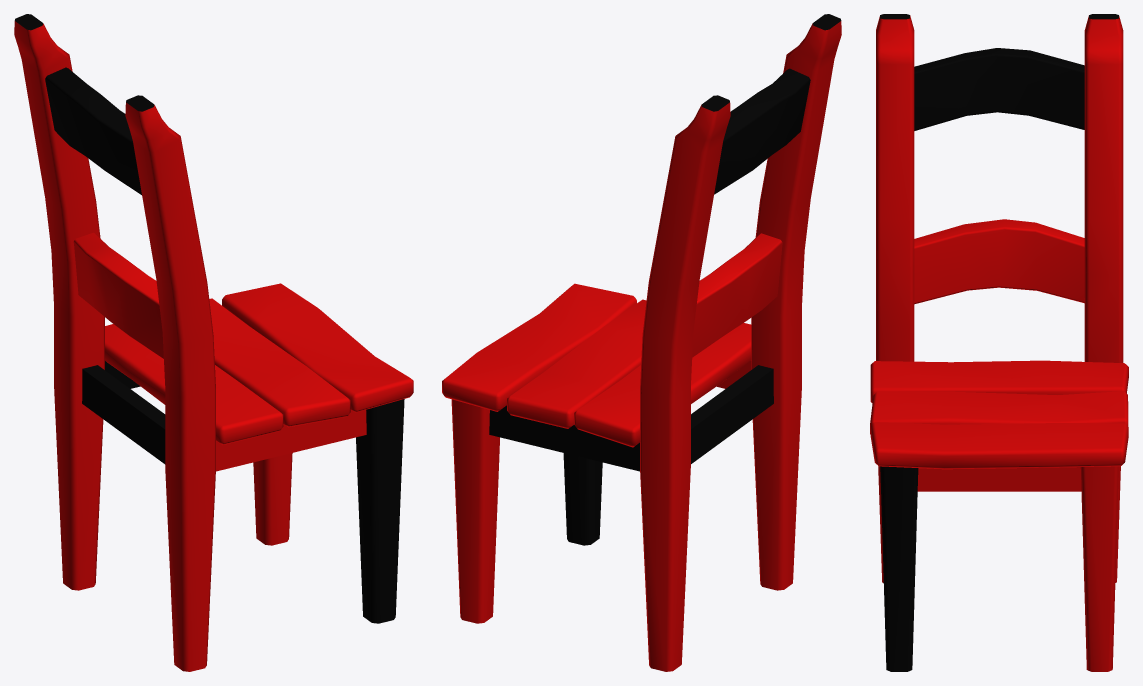
File: Chair_2.fbx
3 renders of one model, left to right at view 1: azimuth 30°, elevation 25°; view 2: azimuth 150°, elevation 25°; view 3: azimuth 270°, elevation 25°, orthographic. The views are drawn at different scales.
Parts seen in each view (by area): view 1: Chair_2; view 2: Chair_2; view 3: Chair_2.
Part boxes in pixels (left/top/right/bottom): Chair_2: left=14, top=14, right=413, bottom=671; Chair_2: left=442, top=14, right=841, bottom=671; Chair_2: left=870, top=14, right=1128, bottom=671.
Size of the model in its own units: 50.58 by 58.45 by 117.
